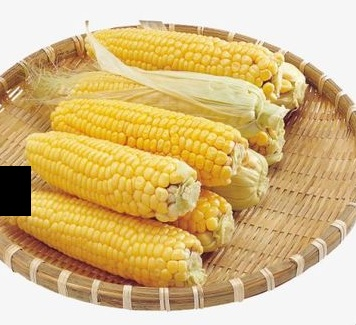corn: (2, 189, 205, 288), (49, 99, 250, 187), (21, 129, 203, 225), (89, 28, 282, 98)
